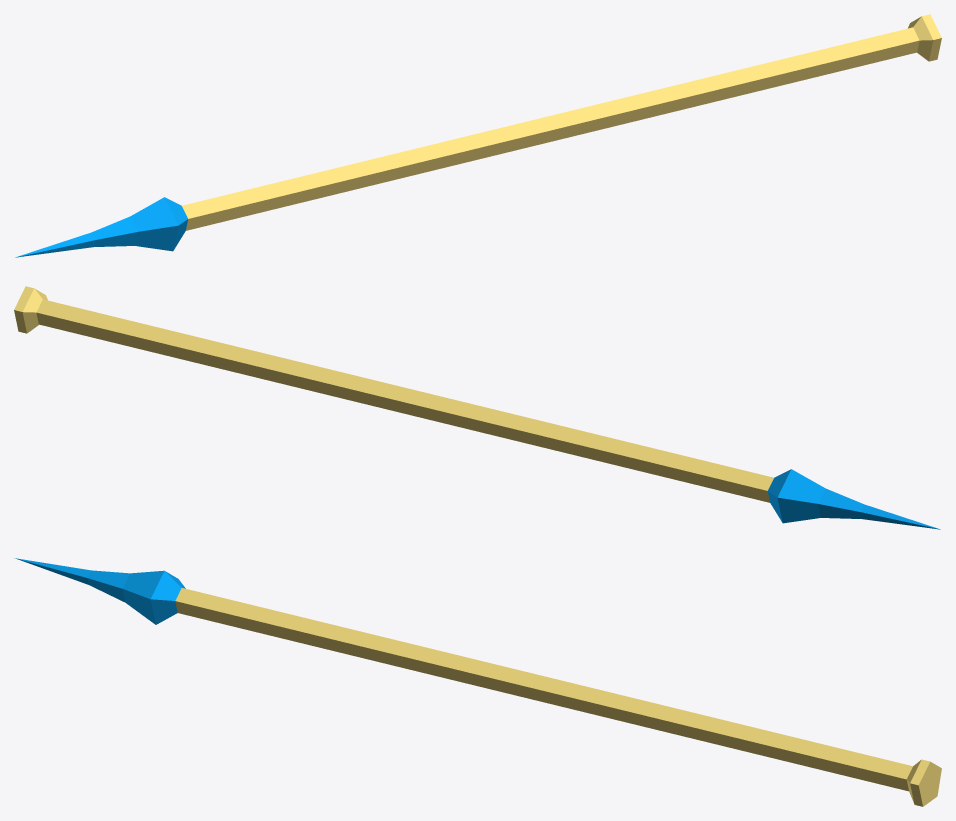
Rendered from SapphireSpear.fbx.
3 views of the same model, one above another, from view 1: azimuth 30°, elevation 25°; view 2: azimuth 150°, elevation 25°; view 3: azimuth 330°, elevation 25° (orthographic).
Parts seen in each view (by area): view 1: SapphireSpear; view 2: SapphireSpear; view 3: SapphireSpear.
Part boxes in pixels (box(x1,y1,x2,y2)): SapphireSpear: box(15, 14, 941, 257); SapphireSpear: box(14, 286, 940, 529); SapphireSpear: box(14, 558, 941, 806).
Bounding box in the file's own units: 1.06 × 0.0534 × 0.0561.
